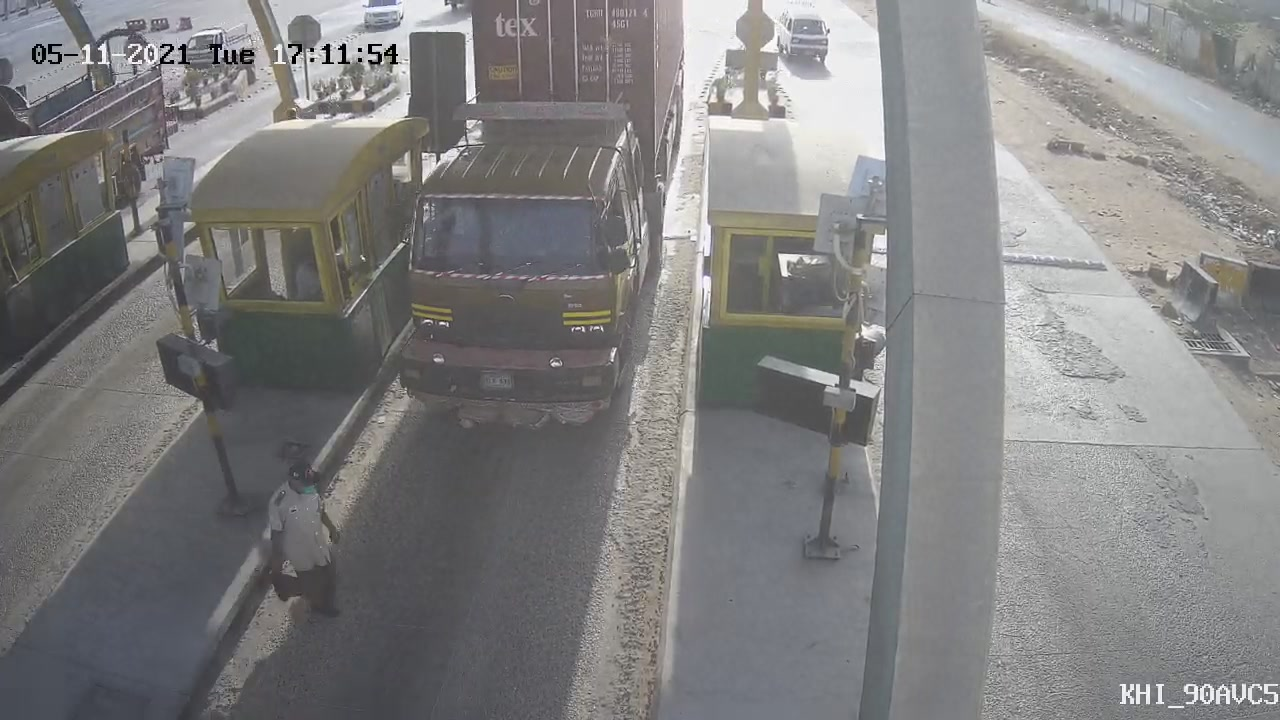F6: (363, 1, 704, 451)
